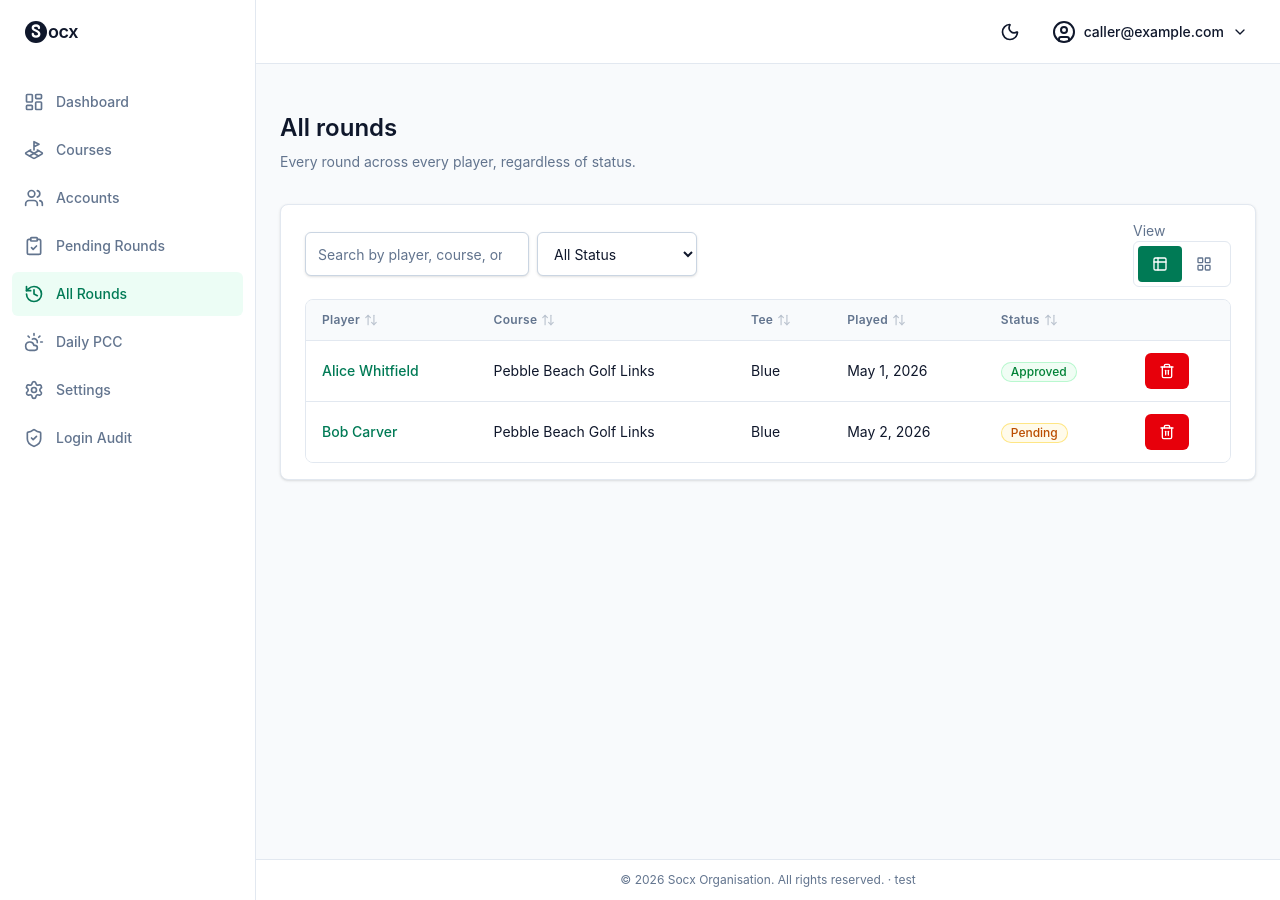
Test case: AdminRoundsListPage › delete › removes the deleted round's own cached query, not just the list
The width and height of the screenshot is (1280, 900).
Check: the link "Alice Whitfield" is shown, box [322,362,419,379]
What coordinates should you click on to do the following:
click the button named "Delete Alice Whitfield's round"
I would click on:
 (1167, 371)
Its box is [1145,353,1189,389].
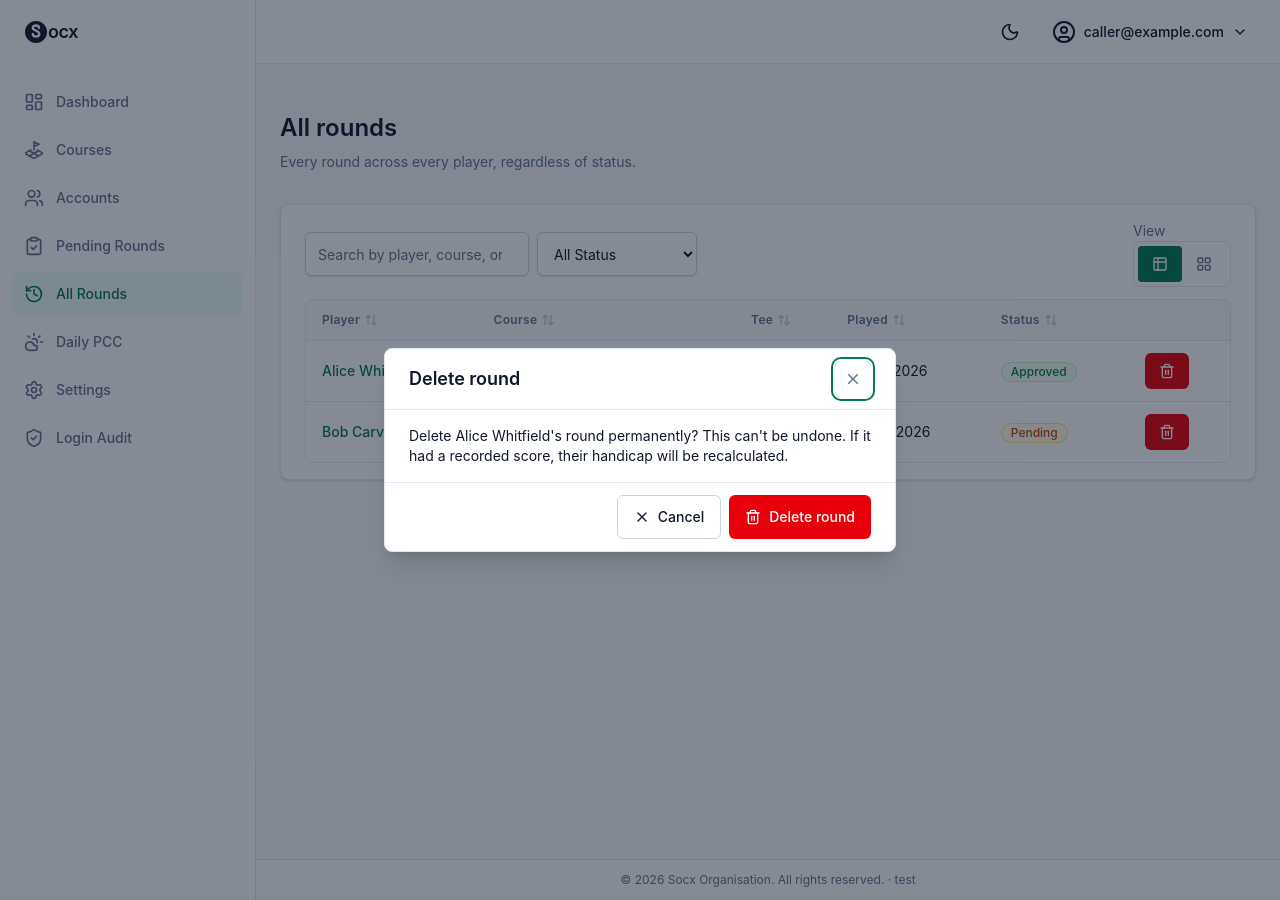
What coordinates should you click on to do the following:
click the button "Delete round"
I would click on:
 (800, 517)
Its box is [729,495,871,539].
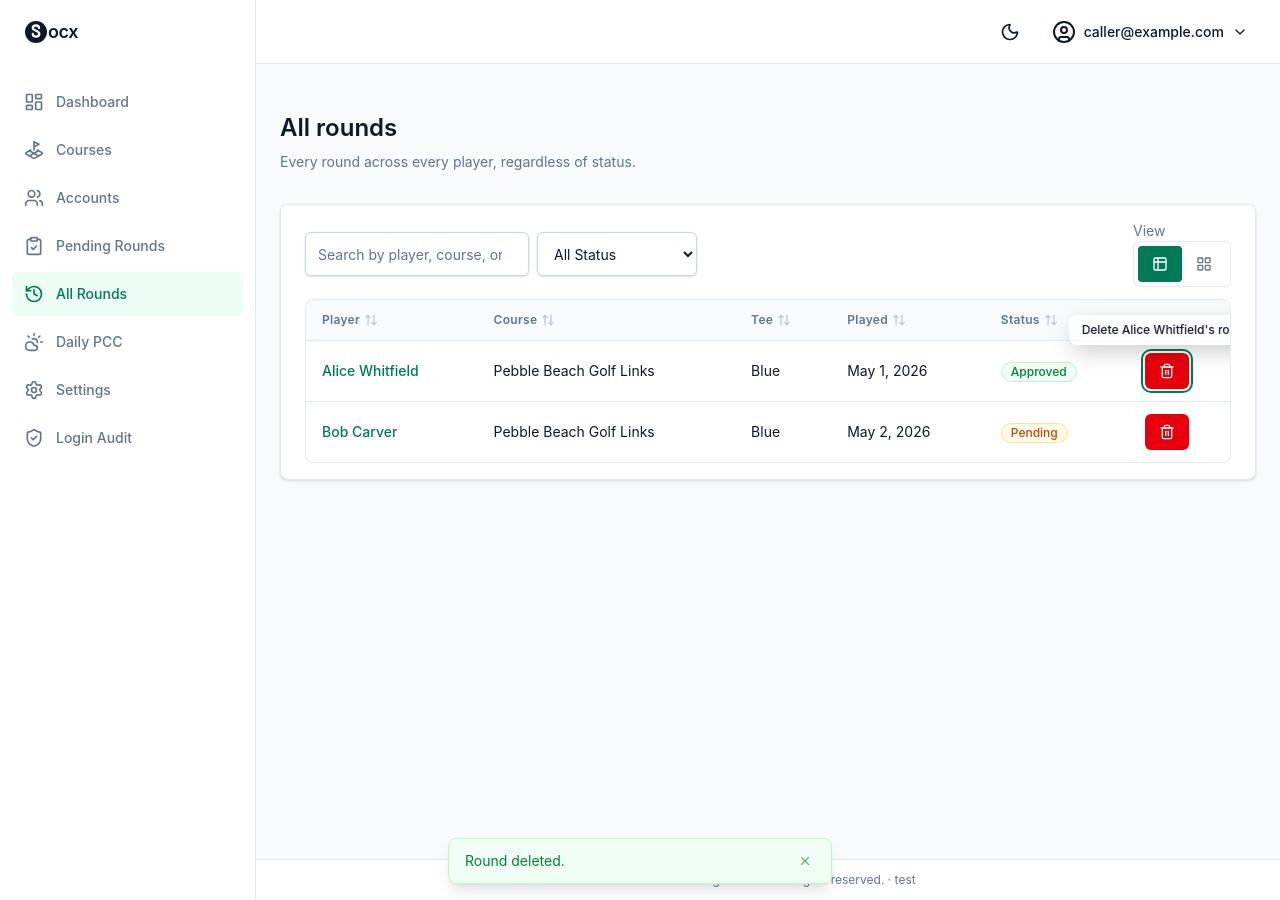
Check: the message reads "Round deleted.", box [465,852,565,869]
